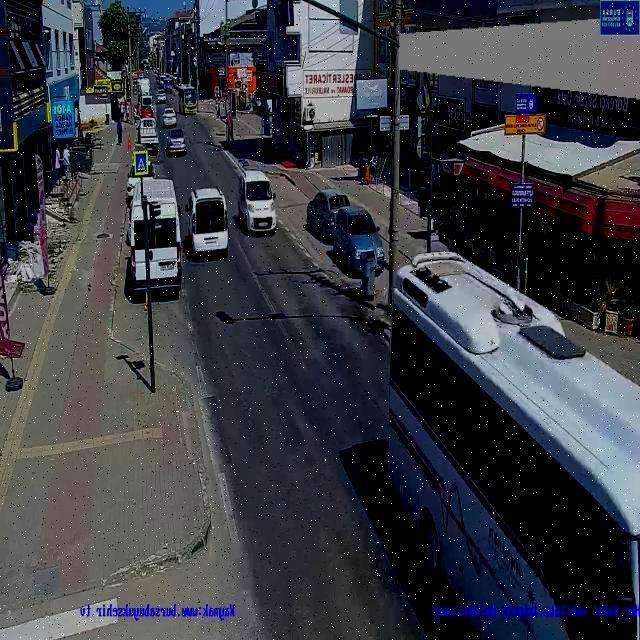Bus: (381, 249, 640, 640), (177, 86, 200, 115)
Car: (332, 204, 386, 272), (188, 188, 230, 258), (238, 168, 276, 231), (304, 188, 350, 236), (125, 160, 157, 199), (166, 129, 188, 156), (161, 107, 178, 126), (154, 88, 168, 104)
Truck: (138, 116, 160, 154)
Van: (128, 177, 187, 301)
